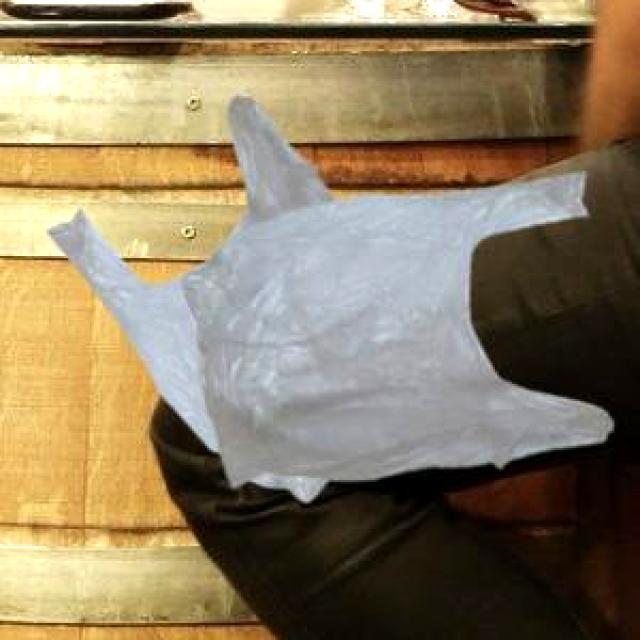Plastic_Bag: (178, 170, 609, 483), (46, 92, 332, 498)
